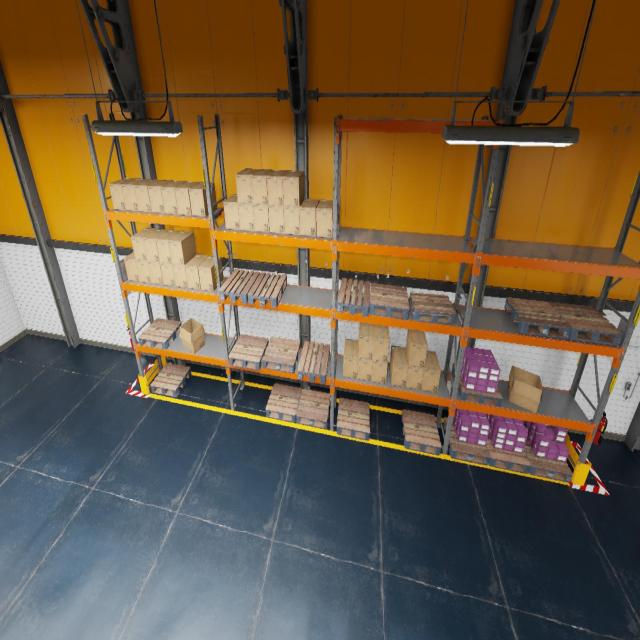box: (508, 366, 543, 413), (188, 182, 217, 216), (168, 231, 196, 265), (134, 179, 162, 212), (122, 178, 150, 211), (179, 318, 205, 353), (198, 255, 223, 291), (109, 178, 137, 210), (160, 181, 187, 214), (147, 180, 174, 213), (174, 181, 200, 215), (235, 168, 259, 204), (143, 229, 169, 262), (156, 230, 181, 264), (130, 228, 156, 260), (406, 329, 427, 368), (185, 254, 208, 289), (422, 351, 441, 392), (283, 170, 304, 207), (251, 169, 273, 204), (406, 348, 424, 390), (390, 345, 408, 387), (267, 170, 288, 206), (300, 198, 319, 236), (316, 200, 333, 238), (343, 338, 358, 379), (223, 194, 240, 230), (358, 322, 374, 360), (373, 325, 389, 362), (268, 205, 284, 234), (284, 206, 300, 235), (253, 204, 269, 232), (238, 203, 254, 231), (124, 252, 139, 281), (371, 361, 388, 384), (172, 264, 188, 288), (147, 262, 163, 284), (357, 358, 372, 381), (160, 263, 175, 286), (136, 260, 151, 283)
pallets: (550, 302, 622, 346), (504, 297, 571, 339), (443, 417, 490, 465), (452, 362, 502, 407), (523, 438, 573, 482), (402, 409, 442, 455), (486, 434, 530, 474), (409, 292, 456, 325), (228, 334, 268, 370), (370, 283, 410, 319), (247, 272, 287, 308), (218, 269, 260, 303), (336, 398, 370, 440), (297, 341, 330, 384), (265, 383, 301, 422), (150, 363, 191, 397), (138, 318, 181, 350), (262, 337, 300, 373), (296, 389, 330, 429), (337, 278, 370, 316)
